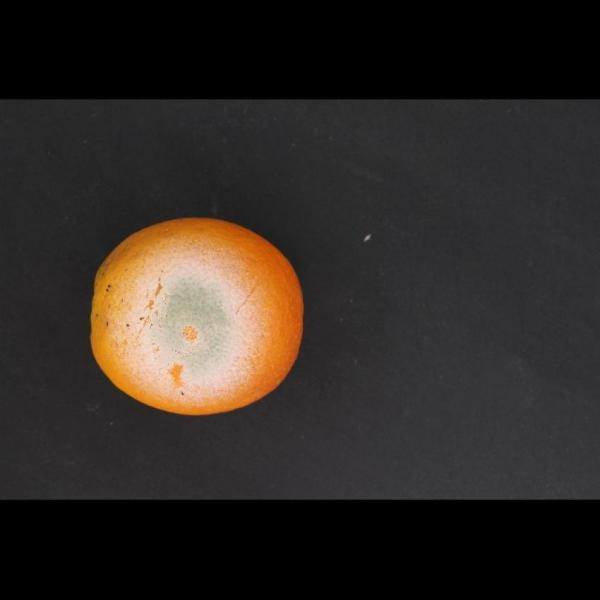Moho verde: (77, 211, 330, 420)
